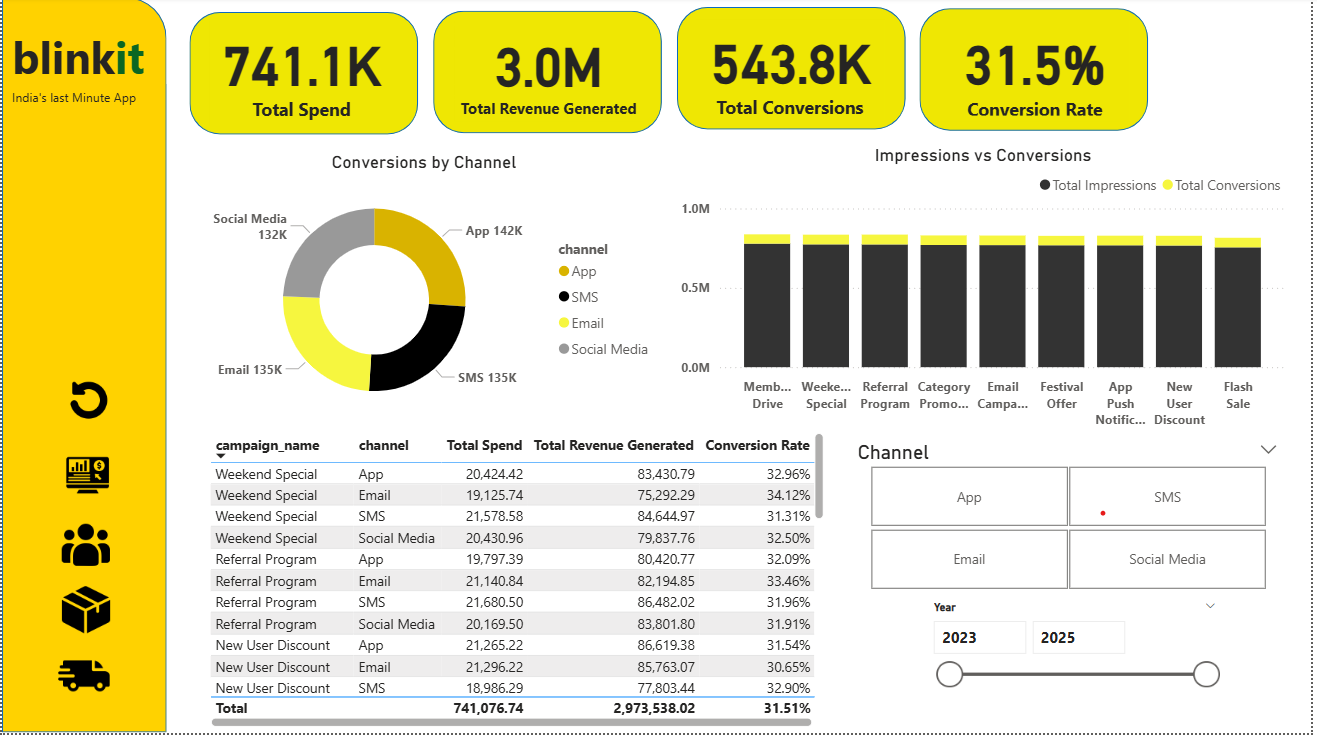

The page's visual inventory and layout, read from the dashboard file:
{"tool":"powerbi","page":{"name":"Marketing","canvas":[1280,720],"ordinal":5},"visuals":[{"type":"shape","box":[0,0,161,719.5],"z":0},{"type":"textbox","box":[0,24.7,149.4,76.6],"z":1000},{"type":"shape","box":[161.6,11.5,223.6,119.7],"z":2000},{"type":"card","fields":{"Values":[" Measure table.Total Spend"]},"box":[183.2,17.3,180.3,106.8],"z":3000},{"type":"shape","box":[395.1,12.5,222.5,119.2],"z":4000},{"type":"card","fields":{"Values":[" Measure table.Total Revenue Generated"]},"box":[412.6,23.1,184.7,98.1],"z":5000},{"type":"shape","box":[631,12.2,222.6,118.6],"z":6000},{"type":"card","fields":{"Values":[" Measure table.Total Conversions"]},"box":[650.5,23.2,182.2,99],"z":7000},{"type":"shape","box":[862.1,11,222.6,118.6],"z":8000},{"type":"card","fields":{"Values":[" Measure table.Conversion Rate"]},"box":[884.1,22,185.9,97.8],"z":9000},{"type":"donutChart","title":"Conversions by Channel","fields":{"Y":[" Measure table.Total Conversions"],"Category":["Marketing.channel"]},"box":[179.8,151.3,466.3,270.5],"z":10000},{"type":"columnChart","title":"Impressions vs Conversions","fields":{"Y":[" Measure table.Total Impressions"," Measure table.Total Conversions"],"Category":["Marketing.campaign_name"]},"box":[658.5,144.2,601.6,270.5],"z":11000},{"type":"tableEx","fields":{"Values":["Marketing.campaign_name","Marketing.channel"," Measure table.Total Spend"," Measure table.Total Revenue Generated"," Measure table.Conversion Rate"]},"box":[179.8,414.7,622.9,297.2],"z":12000},{"type":"slicer","fields":{"Values":["Marketing.channel"]},"box":[1098.1,4.9,151.6,58.7],"z":13000},{"type":"slicer","fields":{"Values":["Calendar.Date.Variation.Date Hierarchy.Year"]},"box":[1098.1,73.4,182.2,66],"z":14000},{"type":"image","box":[33.8,441.4,99.7,53.4],"z":15000},{"type":"image","box":[44.5,507.2,76.5,57],"z":16000},{"type":"image","box":[53.4,567.8,57,64.1],"z":17000},{"type":"image","box":[49.8,631.8,60.5,64.1],"z":18000},{"type":"image","box":[53.4,368.4,62.3,53.4],"z":19000},{"type":"textbox","box":[5.3,83.6,144.2,33.8],"z":20000},{"type":"clusteredColumnChart","title":"Revenue Generated by Channel","fields":{"Category":["Marketing.channel"],"Y":["Measure table.Total Revenue Generated"]},"box":[827.6,421.8,434.3,297.2],"z":21000}]}

Visuals, with their boxes in screenshot pixels (x1, y1, x2, y2), scaled from the page's 1280x720 canvas onto the 1317x735 screenshot:
shape: bbox=(0, 0, 166, 734)
textbox: bbox=(0, 25, 154, 103)
shape: bbox=(166, 12, 396, 134)
card -  Measure table.Total Spend: bbox=(188, 18, 374, 127)
shape: bbox=(407, 13, 635, 134)
card -  Measure table.Total Revenue Generated: bbox=(425, 24, 615, 124)
shape: bbox=(649, 12, 878, 134)
card -  Measure table.Total Conversions: bbox=(669, 24, 857, 125)
shape: bbox=(887, 11, 1116, 132)
card -  Measure table.Conversion Rate: bbox=(910, 22, 1101, 122)
"Conversions by Channel" donutChart: bbox=(185, 154, 665, 431)
"Impressions vs Conversions" columnChart: bbox=(678, 147, 1297, 423)
tableEx - Marketing.campaign_name x Marketing.channel: bbox=(185, 423, 826, 727)
slicer - Marketing.channel: bbox=(1130, 5, 1286, 65)
slicer - Calendar.Date.Variation.Date Hierarchy.Year: bbox=(1130, 75, 1316, 142)
image: bbox=(35, 451, 137, 505)
image: bbox=(46, 518, 124, 576)
image: bbox=(55, 580, 114, 645)
image: bbox=(51, 645, 113, 710)
image: bbox=(55, 376, 119, 431)
textbox: bbox=(5, 85, 154, 120)
"Revenue Generated by Channel" clusteredColumnChart: bbox=(852, 431, 1298, 734)
